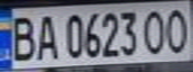0: (63, 10, 84, 60)
2: (100, 8, 121, 59)
3: (118, 7, 142, 57)
6: (81, 9, 103, 60)
A: (33, 11, 60, 61)
B: (3, 11, 39, 62)
O: (163, 4, 193, 55), (139, 6, 169, 55)
